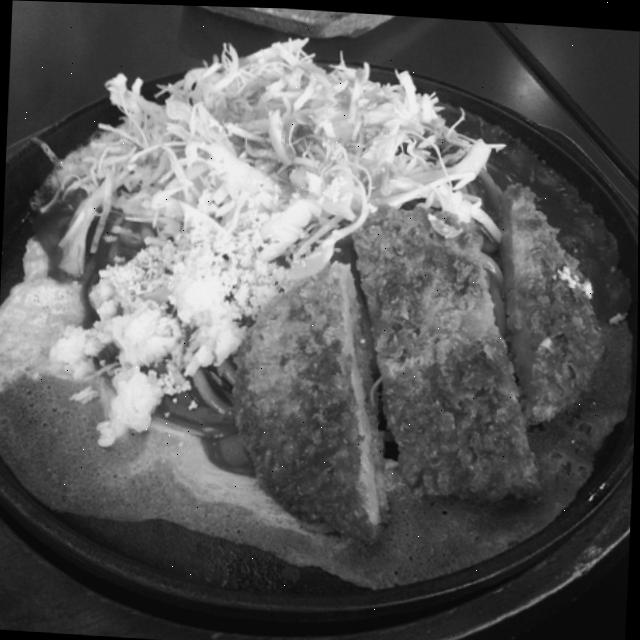炸货点心: (0, 42, 638, 629)
